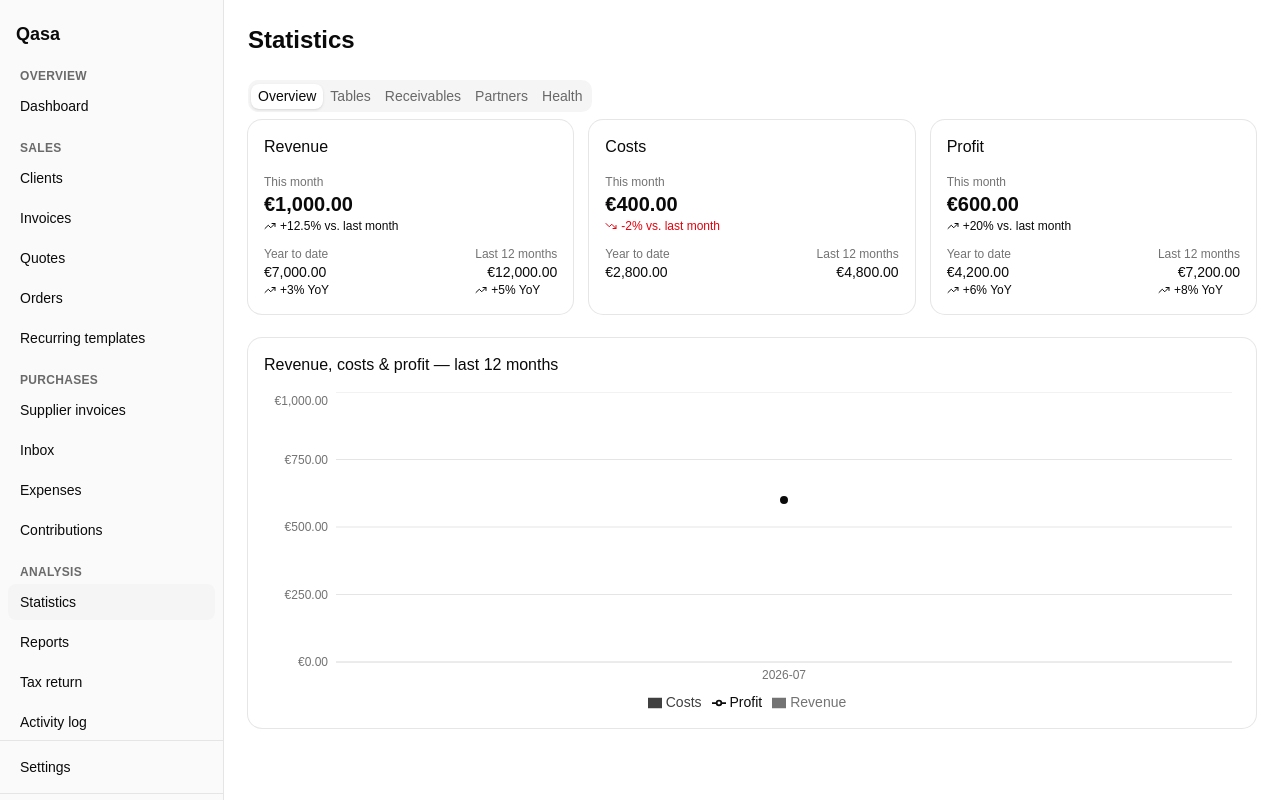
Test case: statistics page › switches to the health tab and shows an insufficient-data state for supplier concentration
This screenshot has width=1280, height=800.
Click the tab "Health". click: (562,96)
box: [535,84,590,108]
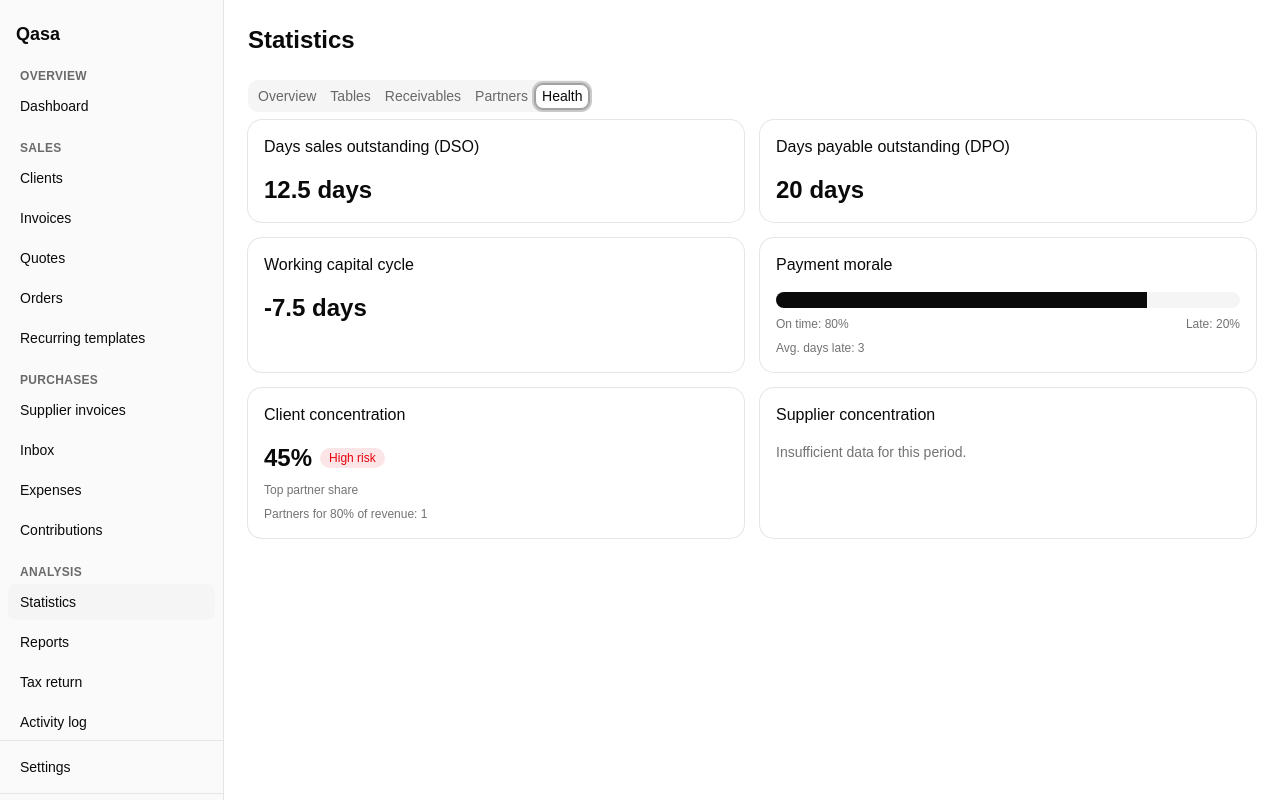
Expected: the text "12.5 days" is shown, [264,176,372,203]
Expected: the text "Insufficient data for this period." is shown, [776,444,966,460]
